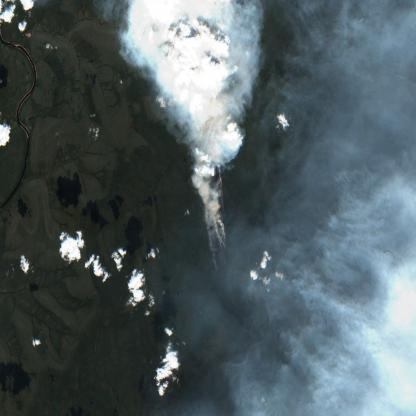fire: (193, 125, 233, 274)
